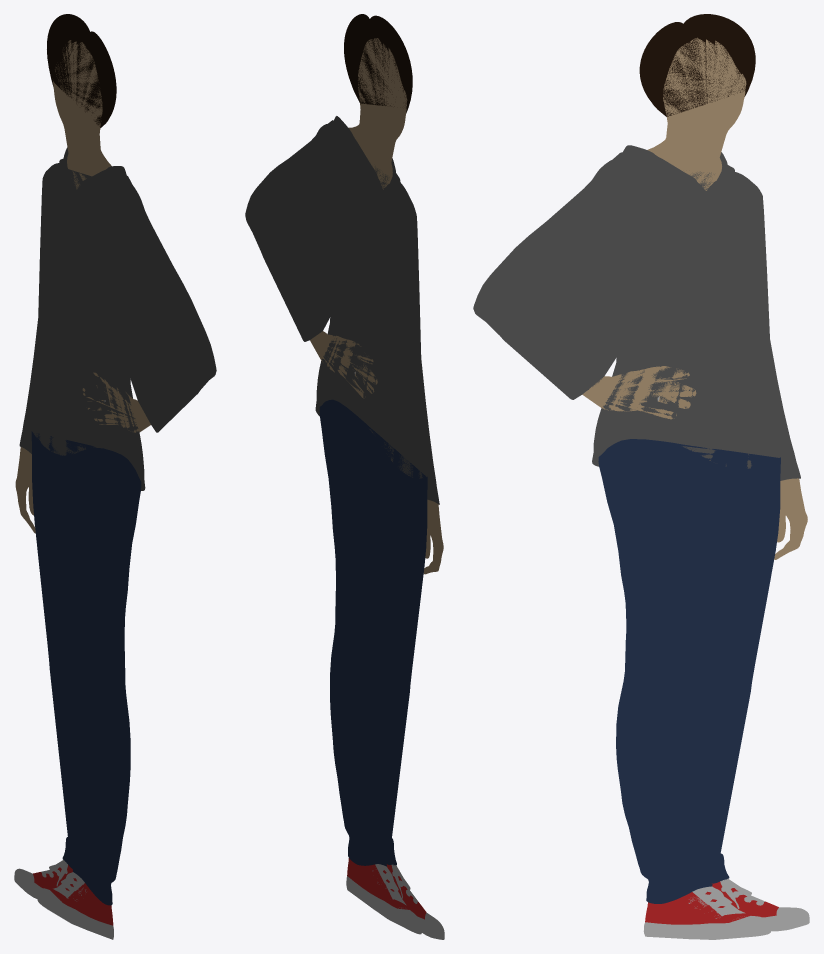
The picture shows the model from 3 angles, left to right: view 1: azimuth 30°, elevation 25°; view 2: azimuth 210°, elevation 25°; view 3: azimuth 270°, elevation 25°; orthographic projection. The views are drawn at different scales.
Visible parts, largest first — view 1: Stacy1; view 2: Stacy1; view 3: Stacy1.
Boxes of the visible parts, left/top/right/bottom form: Stacy1: left=14, top=14, right=216, bottom=939; Stacy1: left=245, top=14, right=444, bottom=939; Stacy1: left=473, top=14, right=809, bottom=939.
Size of what is drawn, in the model's own units: 0.0706 by 1.67 by 0.5484.
